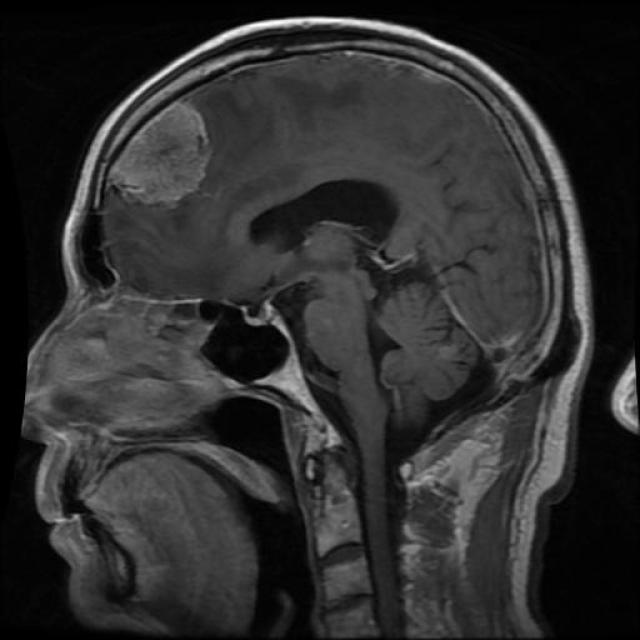meningioma: (111, 104, 210, 206)
